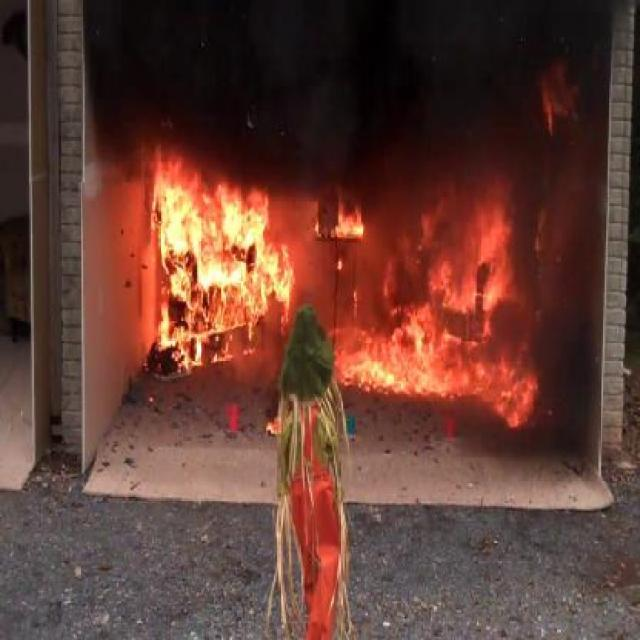fire: (153, 154, 292, 382), (336, 306, 538, 432)
smoke: (140, 28, 614, 190), (494, 125, 604, 308)
